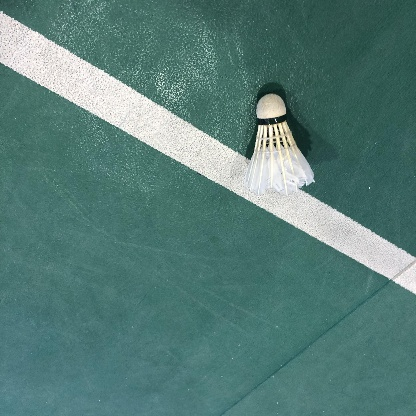ball_single: (245, 94, 314, 196)
